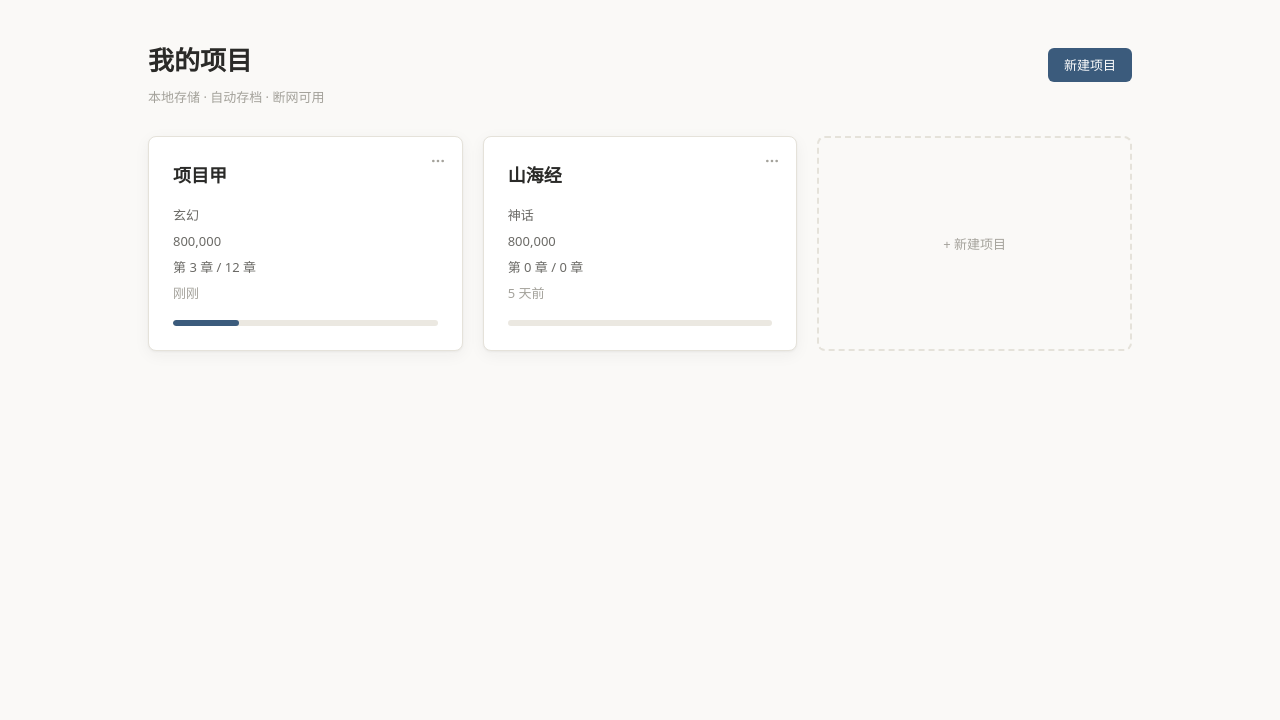
Test: 项目页 — 双入口（主按钮 + 末位虚线卡片） › 主按钮与虚线卡片均可打开新建对话框
The width and height of the screenshot is (1280, 720).
Step 1. Click the button with test id "new-project-btn" → (1090, 65), box [1048, 48, 1132, 82]
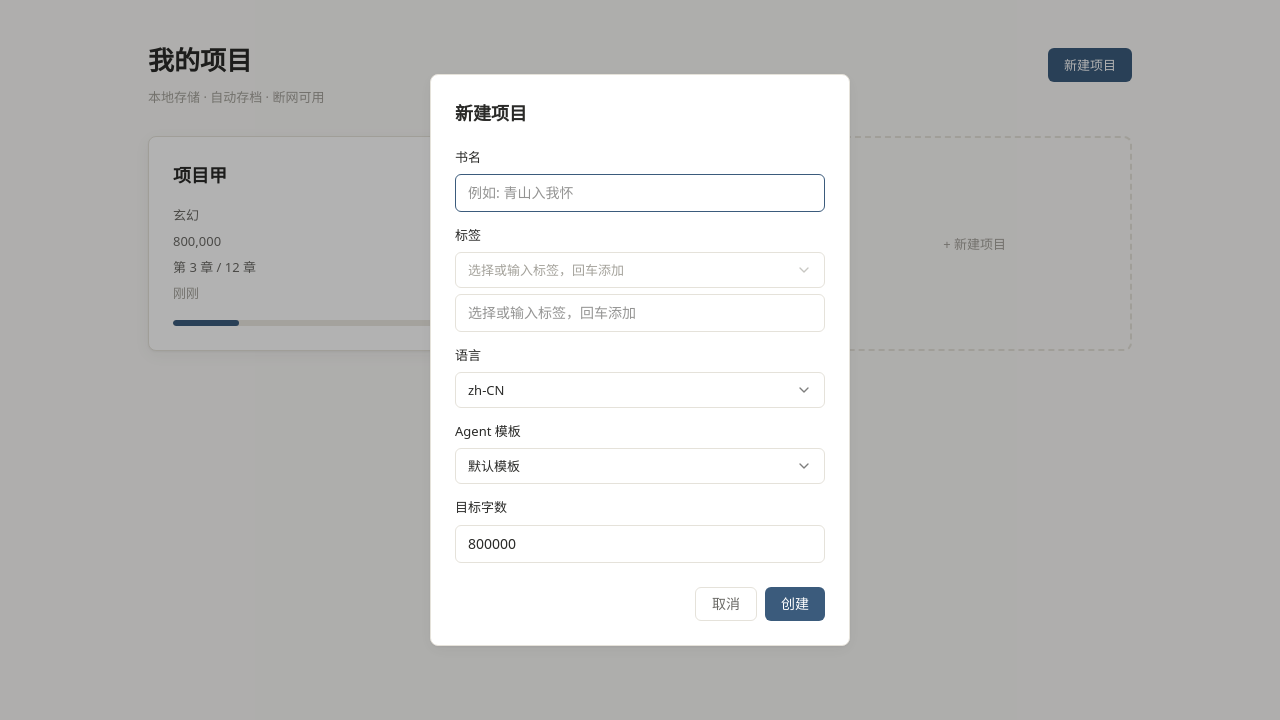
Now the dialog is shown, box [430, 74, 850, 646]
Step 2. Click the button "取消" → (726, 604), box [695, 586, 757, 620]
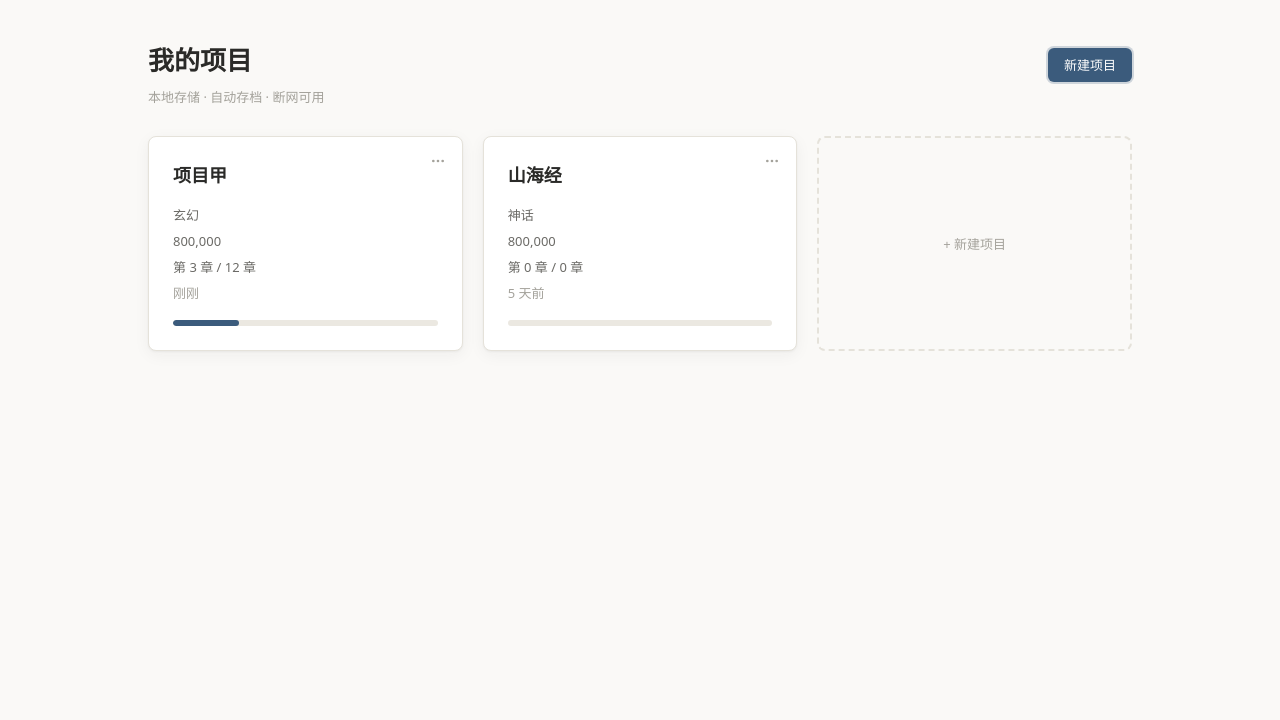
Now the dialog is gone
Step 3. Click the button with test id "new-project-card" → (975, 244), box [817, 136, 1132, 351]
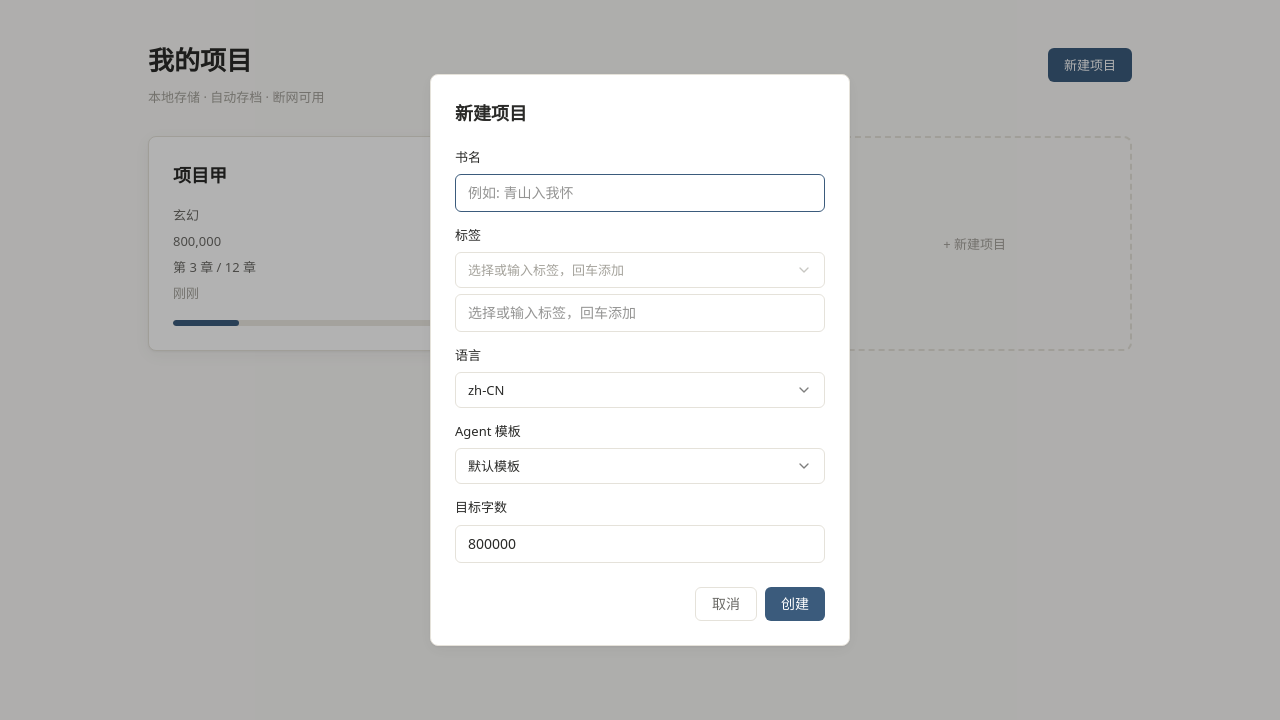
Now the dialog is shown, box [430, 74, 850, 646]
